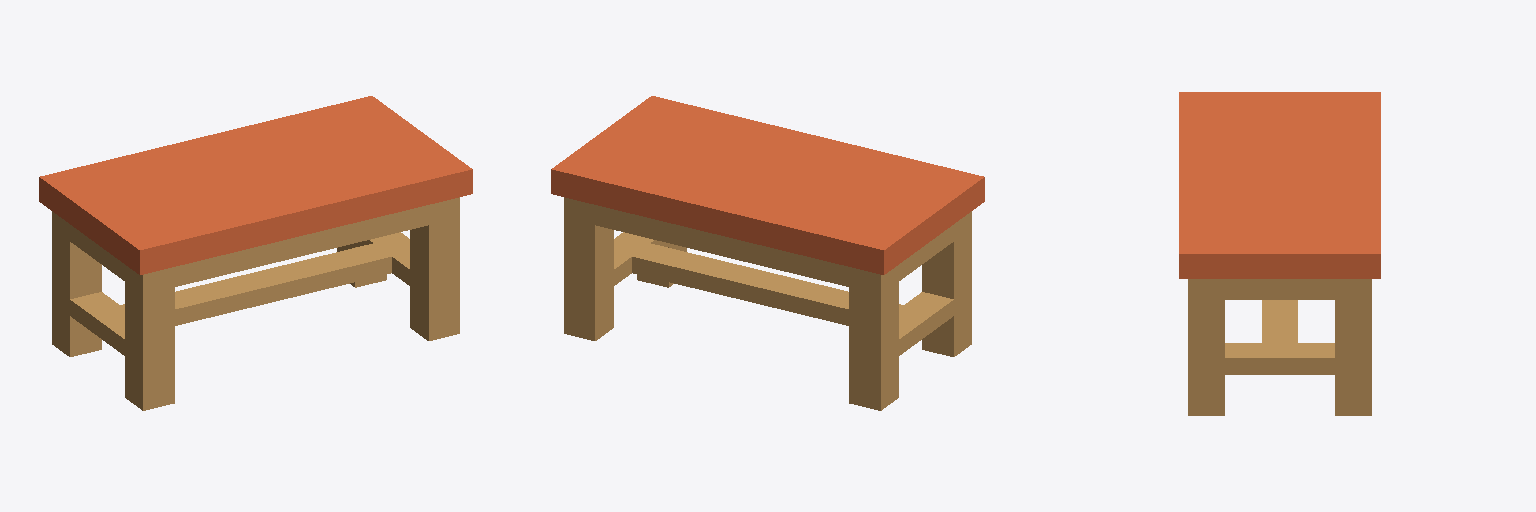
Rendered from benchCushionLow.obj.
3 renders of one model, left to right at view 1: azimuth 30°, elevation 25°; view 2: azimuth 150°, elevation 25°; view 3: azimuth 270°, elevation 25°, orthographic.
Visible parts, largest first — view 1: benchCushionLow; view 2: benchCushionLow; view 3: benchCushionLow.
Part boxes in pixels (left/top/right/bottom): benchCushionLow: left=39, top=96, right=472, bottom=410; benchCushionLow: left=551, top=96, right=984, bottom=410; benchCushionLow: left=1179, top=92, right=1380, bottom=415.
Bounding box in the file's own units: 4.2 × 2 × 2.2.